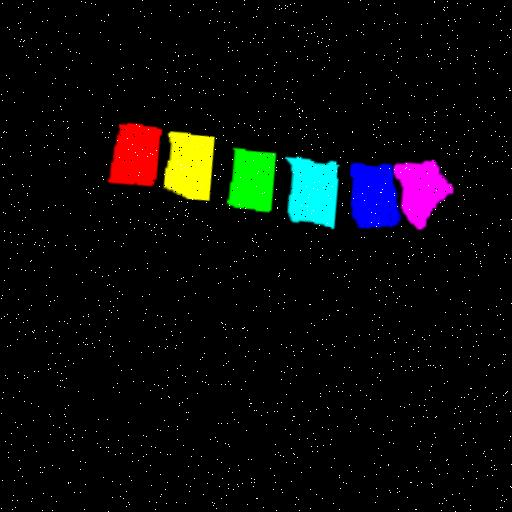L1: (106, 128, 158, 187)
L2: (160, 134, 212, 202)
L3: (224, 152, 273, 213)
L4: (283, 160, 335, 231)
L5: (347, 167, 400, 231)
S1: (390, 166, 448, 234)
